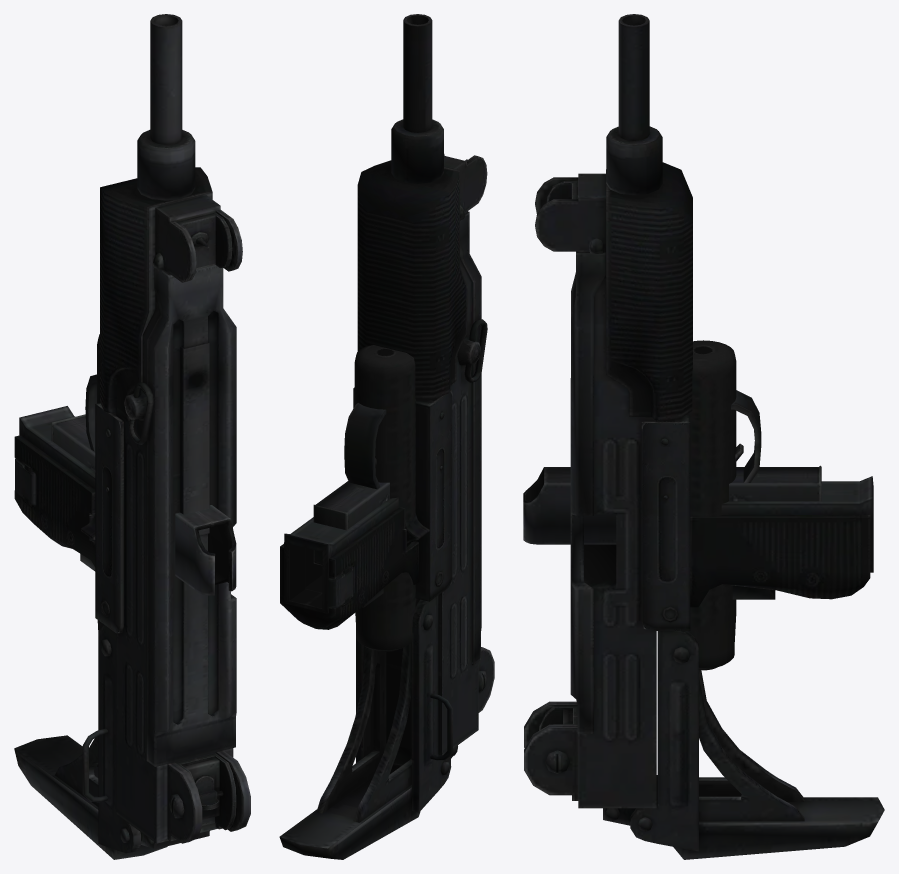
File: Dual_Uzi.obj
3 views of the same model, side by side, from view 1: azimuth 30°, elevation 25°; view 2: azimuth 150°, elevation 25°; view 3: azimuth 270°, elevation 25° (orthographic). The views are drawn at different scales.
Visible parts, largest first — view 1: Model_Uzi_3, Model_Magazine01; view 2: Model_Uzi_3, Model_Silencer, Model_Magazine01; view 3: Model_Uzi_3, Model_Silencer, Model_Magazine01.
Boxes of the visible parts, <box> form: Model_Uzi_3: <box>14,14,250,859</box>; Model_Magazine01: <box>51,414,236,595</box>; Model_Uzi_3: <box>279,14,494,859</box>; Model_Silencer: <box>354,345,415,652</box>; Model_Magazine01: <box>313,481,389,565</box>; Model_Uzi_3: <box>524,14,884,859</box>; Model_Silencer: <box>686,340,736,670</box>; Model_Magazine01: <box>523,465,821,544</box>.
Size of the model in its own units: 0.0646 by 0.481 by 0.1907.
2 materials, 2 textured.
